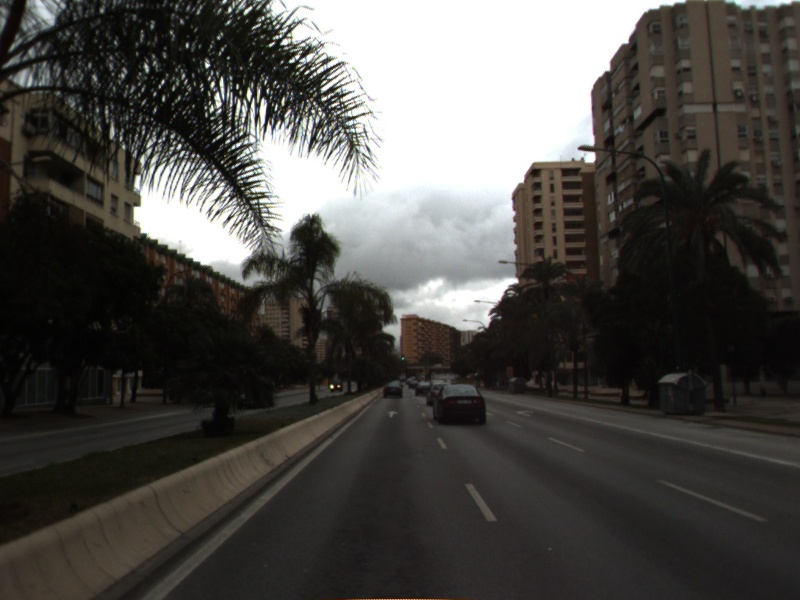RIGHT: (512, 407, 537, 419)
STRAIGHT: (383, 408, 401, 419)
